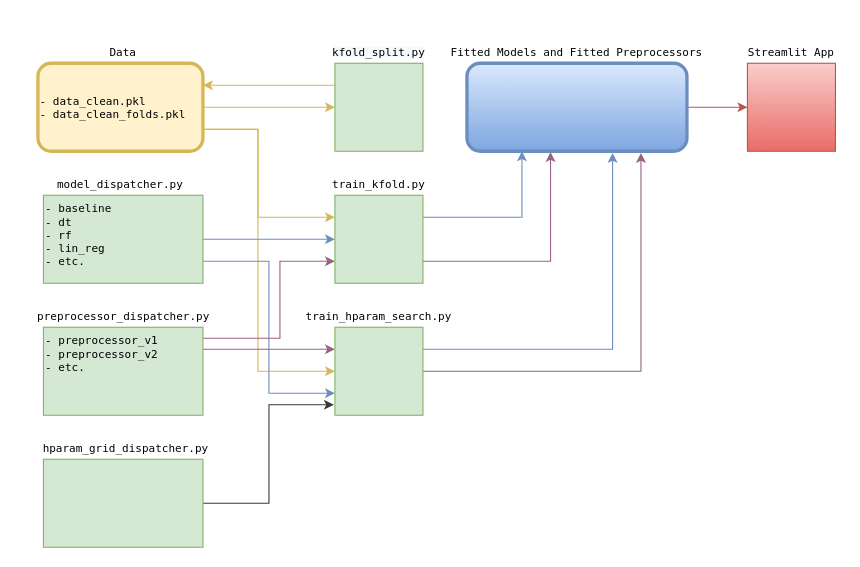
This 860x567 diagram has some shape labels left out. Each missing label, with the box of its shape:
- rf - rf.bin - preprocesor_v2.bin - rf_hparam_search - rf_best.bin - logs.txt: (465, 61, 688, 152)
- rf - xgb - lin_reg - etc.: (42, 458, 203, 547)
